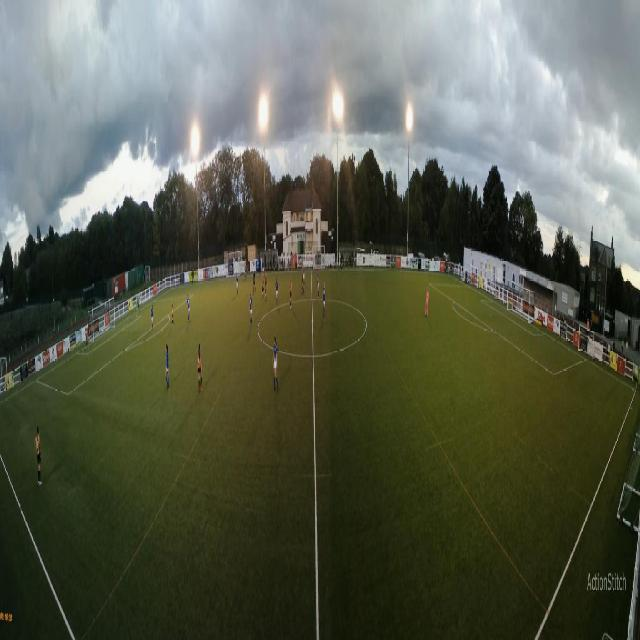ball: (137, 303, 138, 308)
player: (34, 415, 44, 494), (272, 331, 278, 390), (197, 342, 203, 388), (164, 344, 170, 386), (426, 279, 430, 324), (187, 291, 191, 322), (275, 276, 279, 304), (171, 297, 174, 332), (244, 259, 248, 283), (265, 265, 268, 296), (323, 281, 326, 311), (250, 291, 253, 321), (301, 266, 304, 291), (151, 304, 154, 328), (86, 327, 89, 351), (317, 265, 319, 300), (236, 273, 239, 295), (290, 279, 292, 307), (262, 267, 264, 293), (304, 262, 306, 282), (254, 270, 256, 290), (137, 294, 139, 314), (136, 296, 137, 318)
